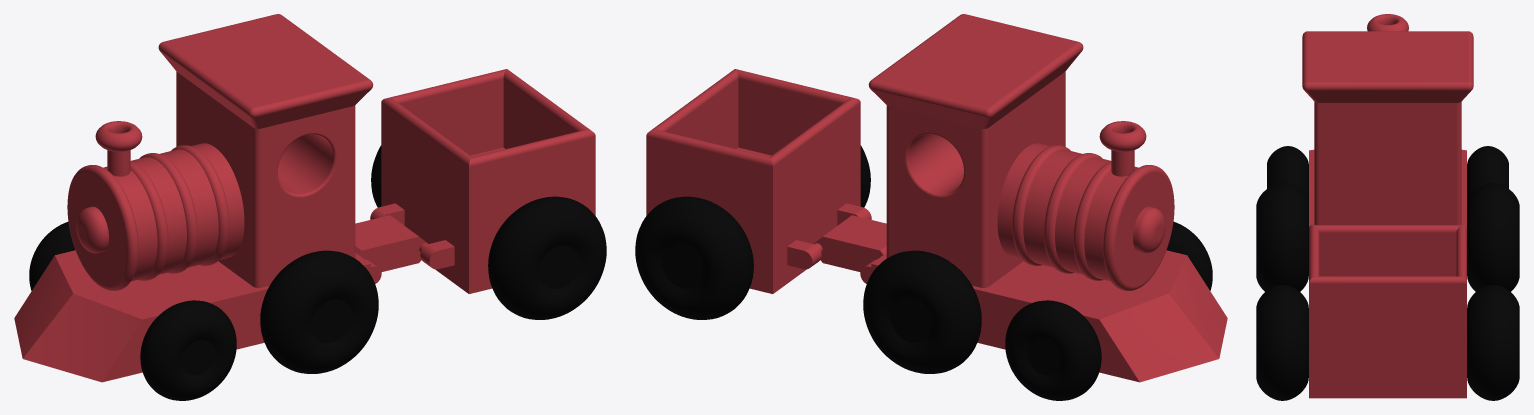
The model's file is train_animation.glb.
The picture shows the model from 3 angles, left to right: view 1: azimuth 30°, elevation 25°; view 2: azimuth 150°, elevation 25°; view 3: azimuth 270°, elevation 25°; orthographic projection. The views are drawn at different scales.
Visible parts, largest first — view 1: body, back, wheels_back, wheels_middle, wheels_front, hinge; view 2: body, back, wheels_back, wheels_middle, wheels_front, hinge; view 3: body, back, wheels_back, wheels_middle, wheels_front.
Part boxes in pixels (x1,y1,x2,y2): body: (14, 14, 381, 382); back: (370, 69, 595, 293); wheels_back: (371, 145, 606, 319); wheels_middle: (260, 250, 378, 373); wheels_front: (29, 222, 236, 400); hinge: (355, 215, 428, 272); body: (860, 14, 1227, 382); back: (646, 69, 871, 293); wheels_back: (635, 145, 870, 319); wheels_middle: (863, 250, 981, 373); wheels_front: (1005, 222, 1212, 400); hinge: (813, 215, 886, 272); body: (1302, 14, 1473, 226); back: (1309, 225, 1466, 398); wheels_back: (1256, 284, 1519, 400); wheels_middle: (1256, 183, 1519, 291); wheels_front: (1267, 146, 1508, 205).
Bounding box in the file's own units: 4.14 × 2 × 1.98.
